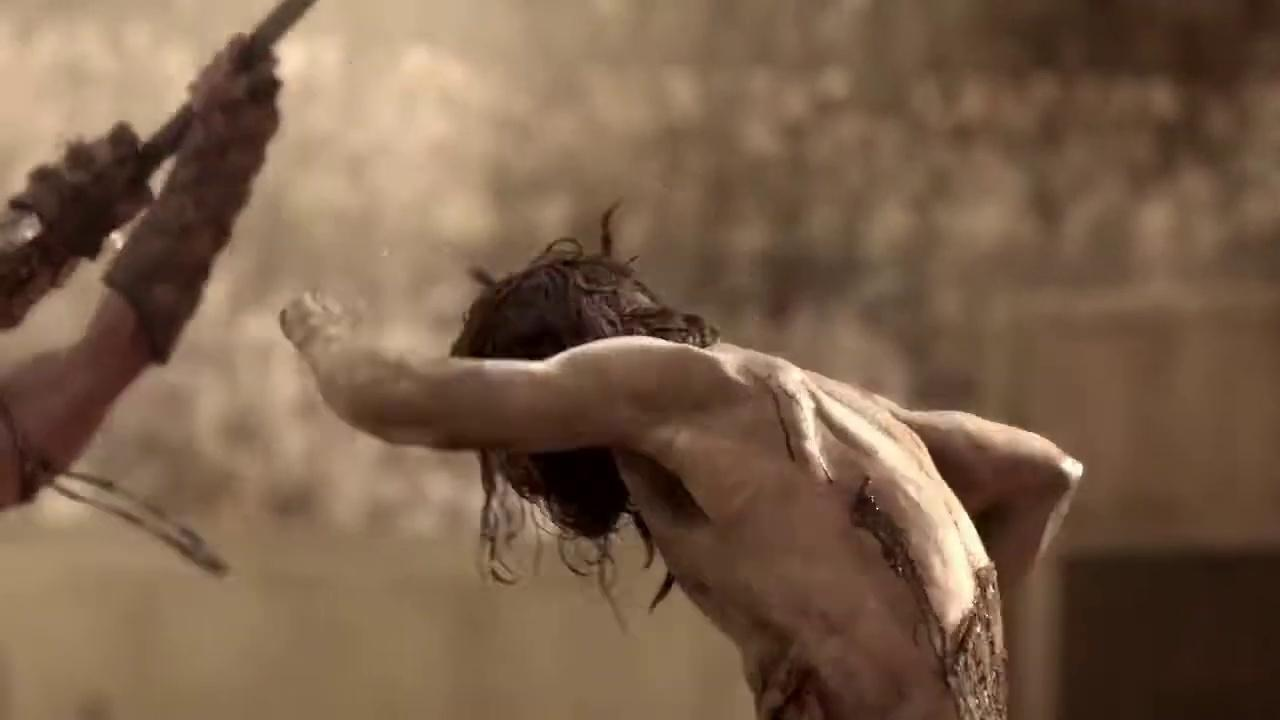Fire: (853, 477, 1009, 720), (742, 364, 837, 490), (748, 649, 842, 720)
